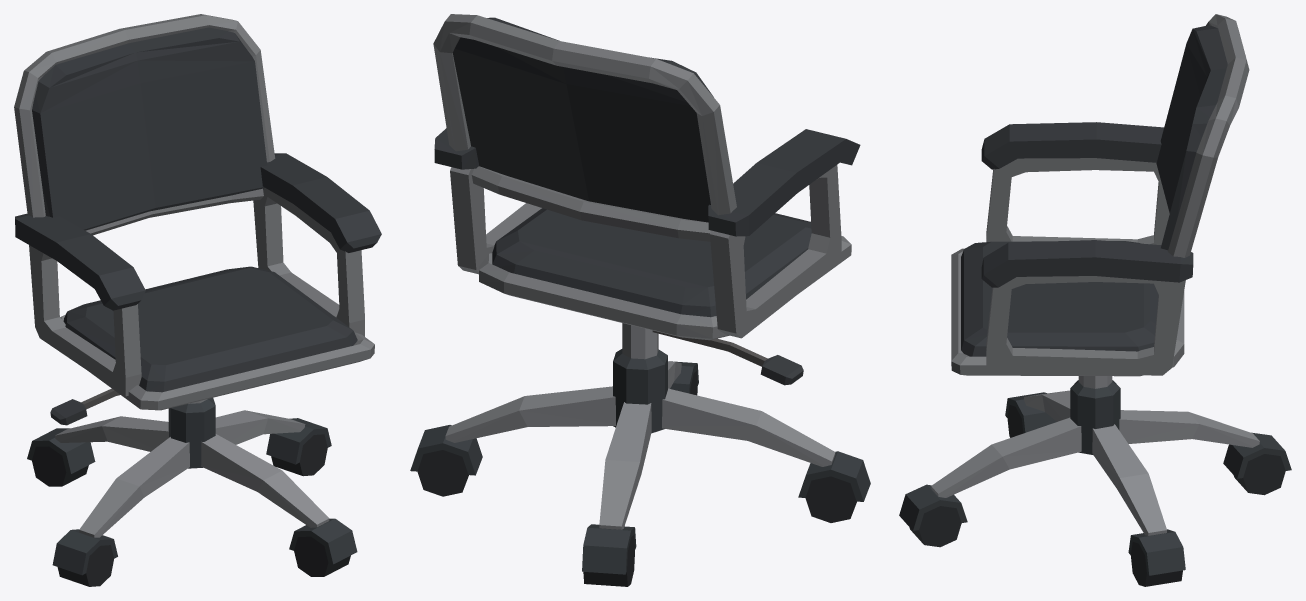
Rendered from CafeChair.obj.
3 renders of one model, left to right at view 1: azimuth 30°, elevation 25°; view 2: azimuth 150°, elevation 25°; view 3: azimuth 270°, elevation 25°, orthographic. The views are drawn at different scales.
Parts seen in each view (by area): view 1: CafeChair; view 2: CafeChair; view 3: CafeChair.
Part boxes in pixels (bbox=[...]): CafeChair: bbox=[14, 14, 381, 586]; CafeChair: bbox=[410, 14, 870, 586]; CafeChair: bbox=[899, 14, 1291, 586].
Bounding box in the file's own units: 0.7016 × 0.9 × 0.7016.
1 material, 1 textured.
